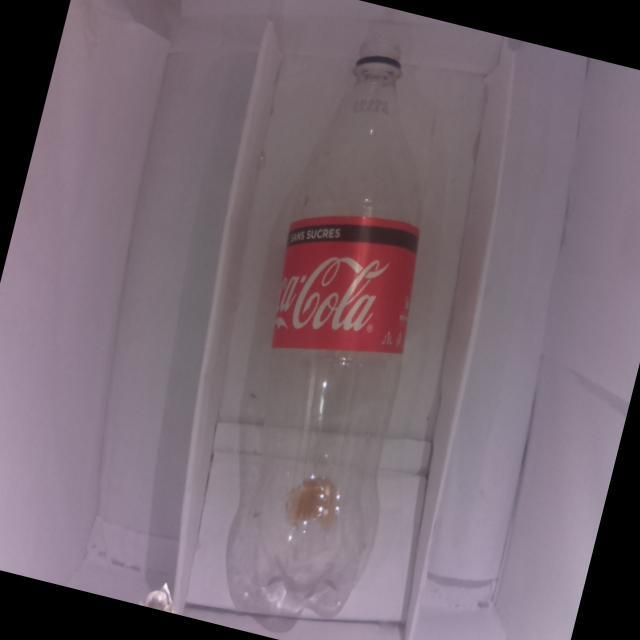good: (168, 2, 510, 631)
